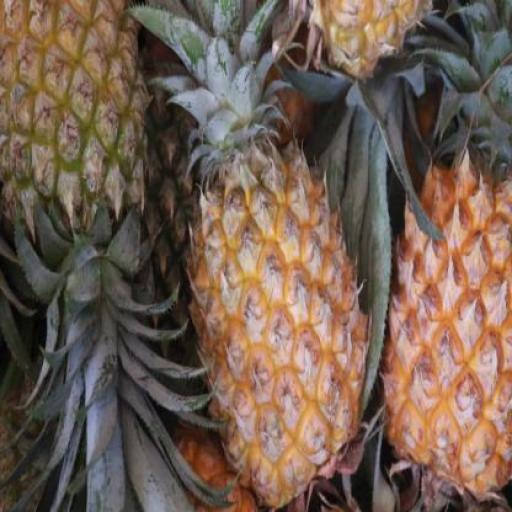------------------------------: (0, 0, 149, 233)
Pineapple - v8 v1: (184, 146, 372, 512), (384, 150, 512, 500)
